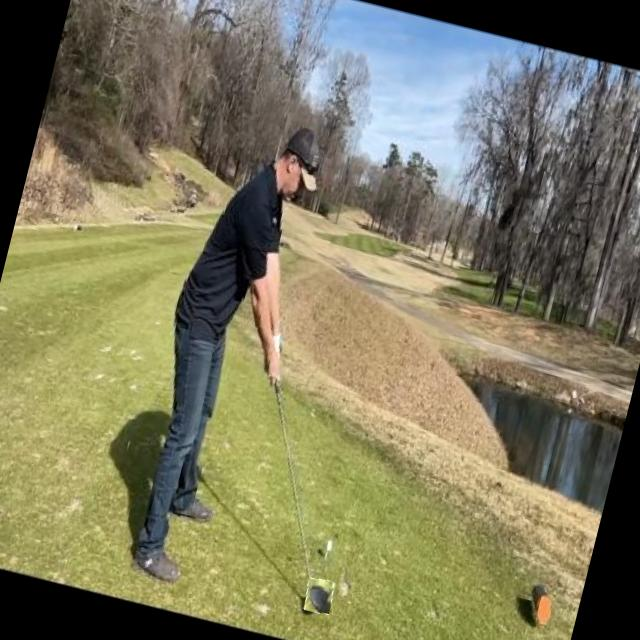club head: (302, 576, 336, 615)
